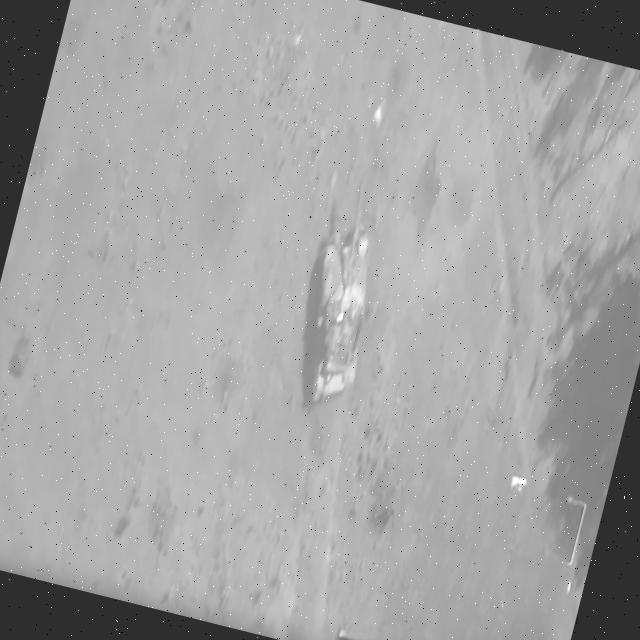MBT: (281, 176, 404, 422)
